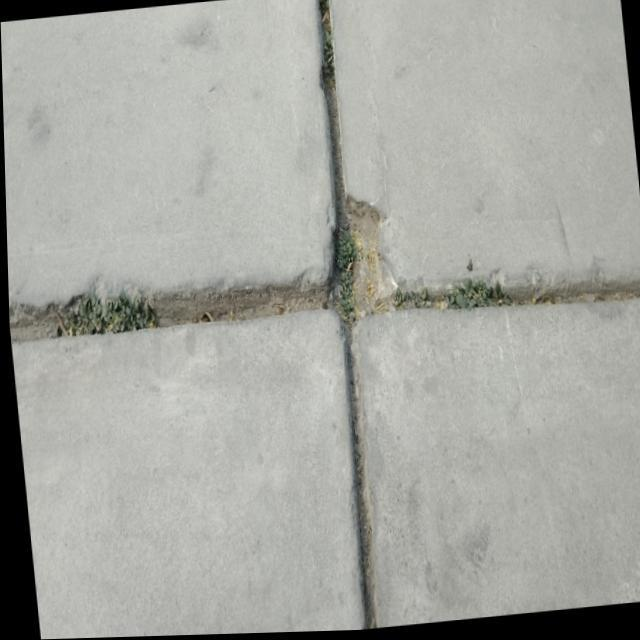hole: (318, 196, 388, 328)
